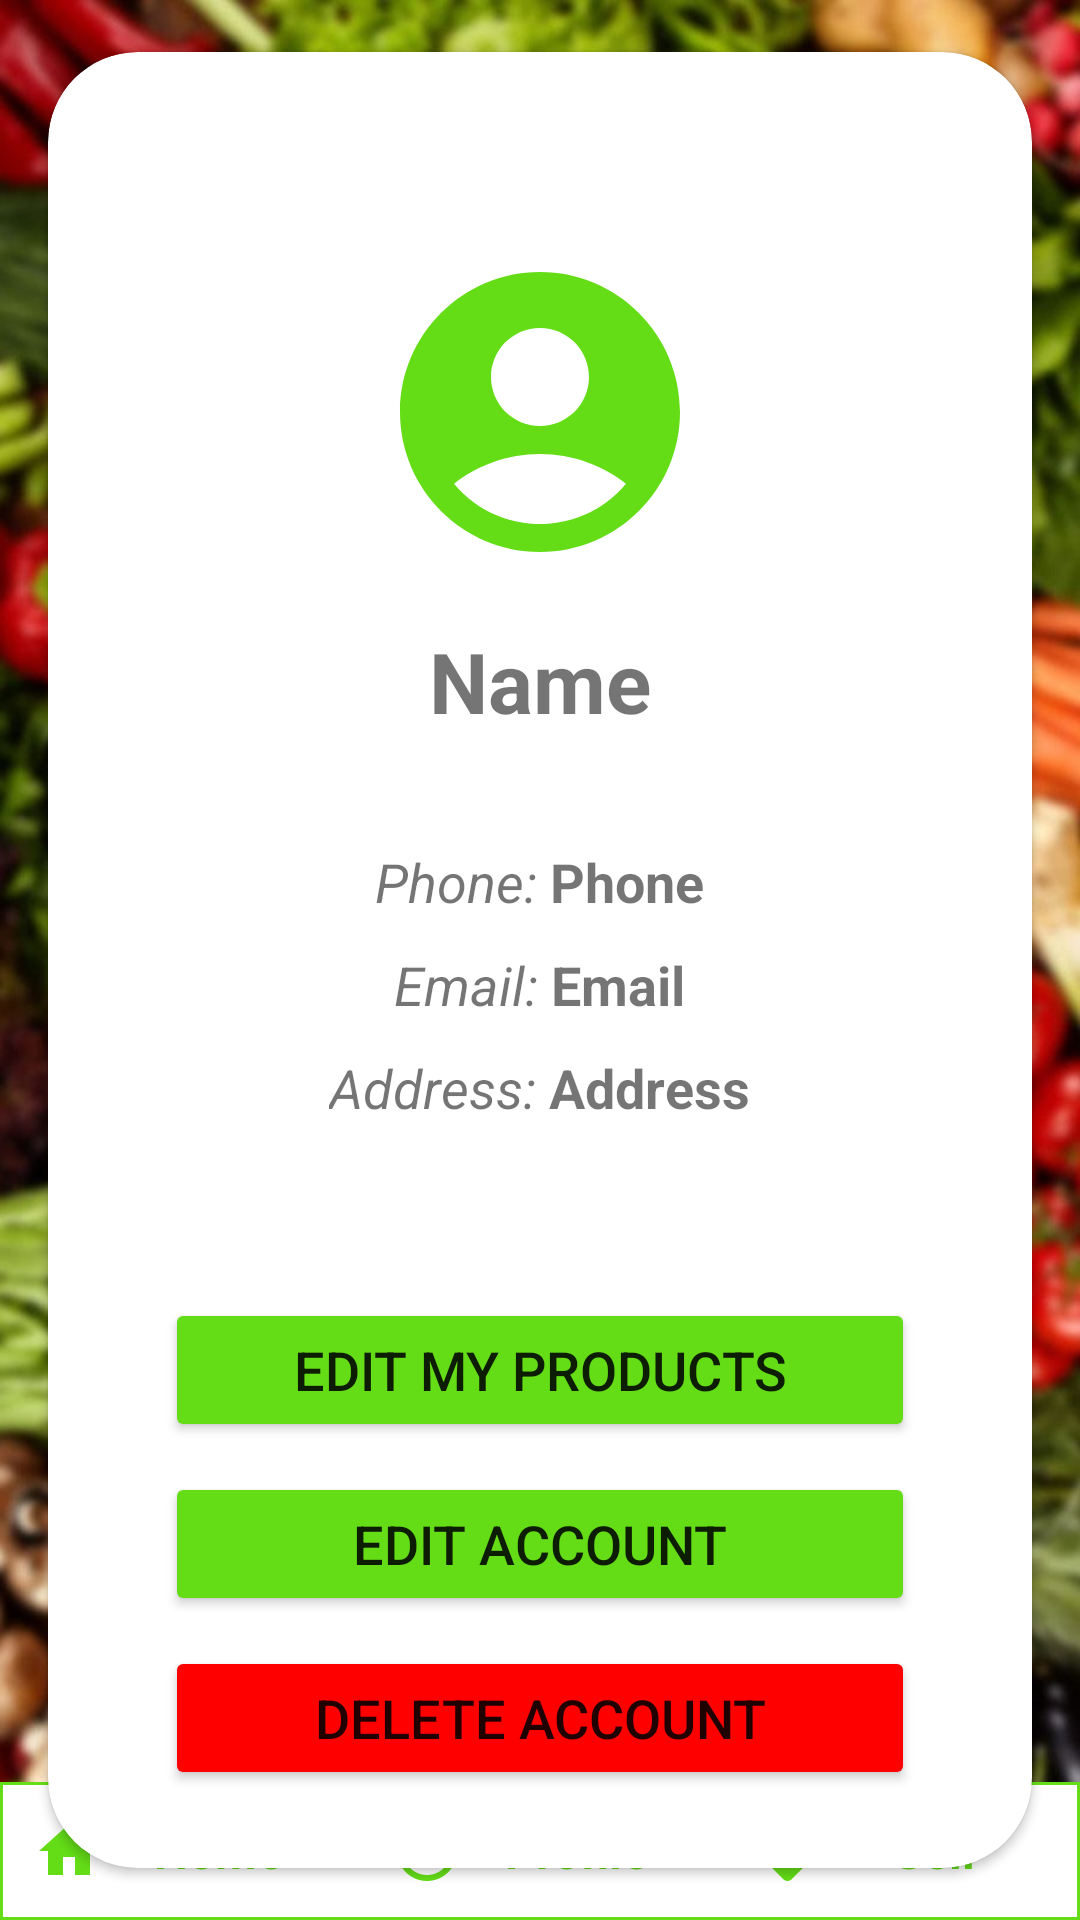

Screen size 1080×1920. Icon name, then its box in pixels as (x1, y1, x2, y2):
account circle: (400, 272, 680, 552)
